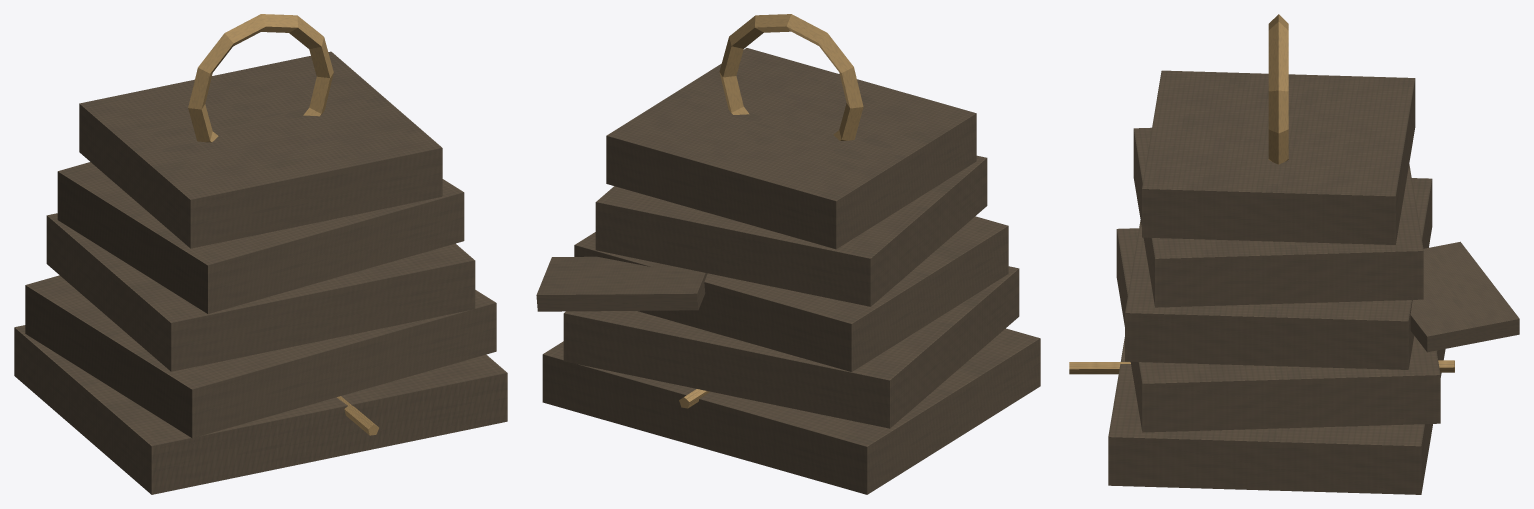
Rendered from en-018_storage_corner_set__sack.obj.
The picture shows the model from 3 angles, left to right: view 1: azimuth 30°, elevation 25°; view 2: azimuth 150°, elevation 25°; view 3: azimuth 270°, elevation 25°; orthographic projection.
Visible parts, largest first — view 1: en-018_storage_corner_set__sack; view 2: en-018_storage_corner_set__sack; view 3: en-018_storage_corner_set__sack.
Part boxes in pixels (<box>): en-018_storage_corner_set__sack: <box>14,14,507,494</box>; en-018_storage_corner_set__sack: <box>536,14,1040,494</box>; en-018_storage_corner_set__sack: <box>1069,14,1519,494</box>.
Size of the model in its own units: 0.5053 by 0.5145 by 0.5454.
Materials: 2 (2 with a texture image).
